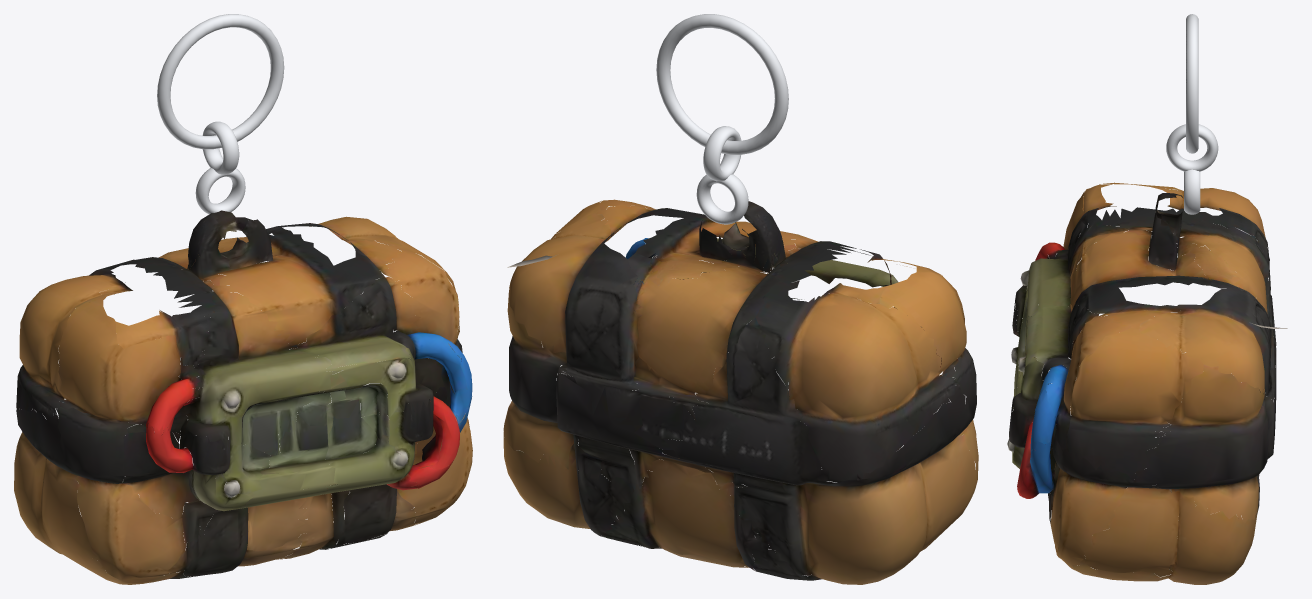
Rendered from c4-plush.glb.
3 renders of one model, left to right at view 1: azimuth 30°, elevation 25°; view 2: azimuth 150°, elevation 25°; view 3: azimuth 270°, elevation 25°, orthographic. The views are drawn at different scales.
Parts seen in each view (by area): view 1: 06-c4-plush, c4rig_link1; view 2: 06-c4-plush, c4rig_link1; view 3: 06-c4-plush, c4rig_link1.
Part boxes in pixels (bbox=[...]): 06-c4-plush: bbox=[14, 210, 472, 584]; c4rig_link1: bbox=[157, 14, 284, 214]; 06-c4-plush: bbox=[503, 199, 978, 584]; c4rig_link1: bbox=[656, 14, 788, 224]; 06-c4-plush: bbox=[1007, 182, 1287, 584]; c4rig_link1: bbox=[1166, 14, 1218, 214].
Bounding box in the file's own units: 2.36 × 2.98 × 1.56.
Materials: 2 (1 with a texture image).
